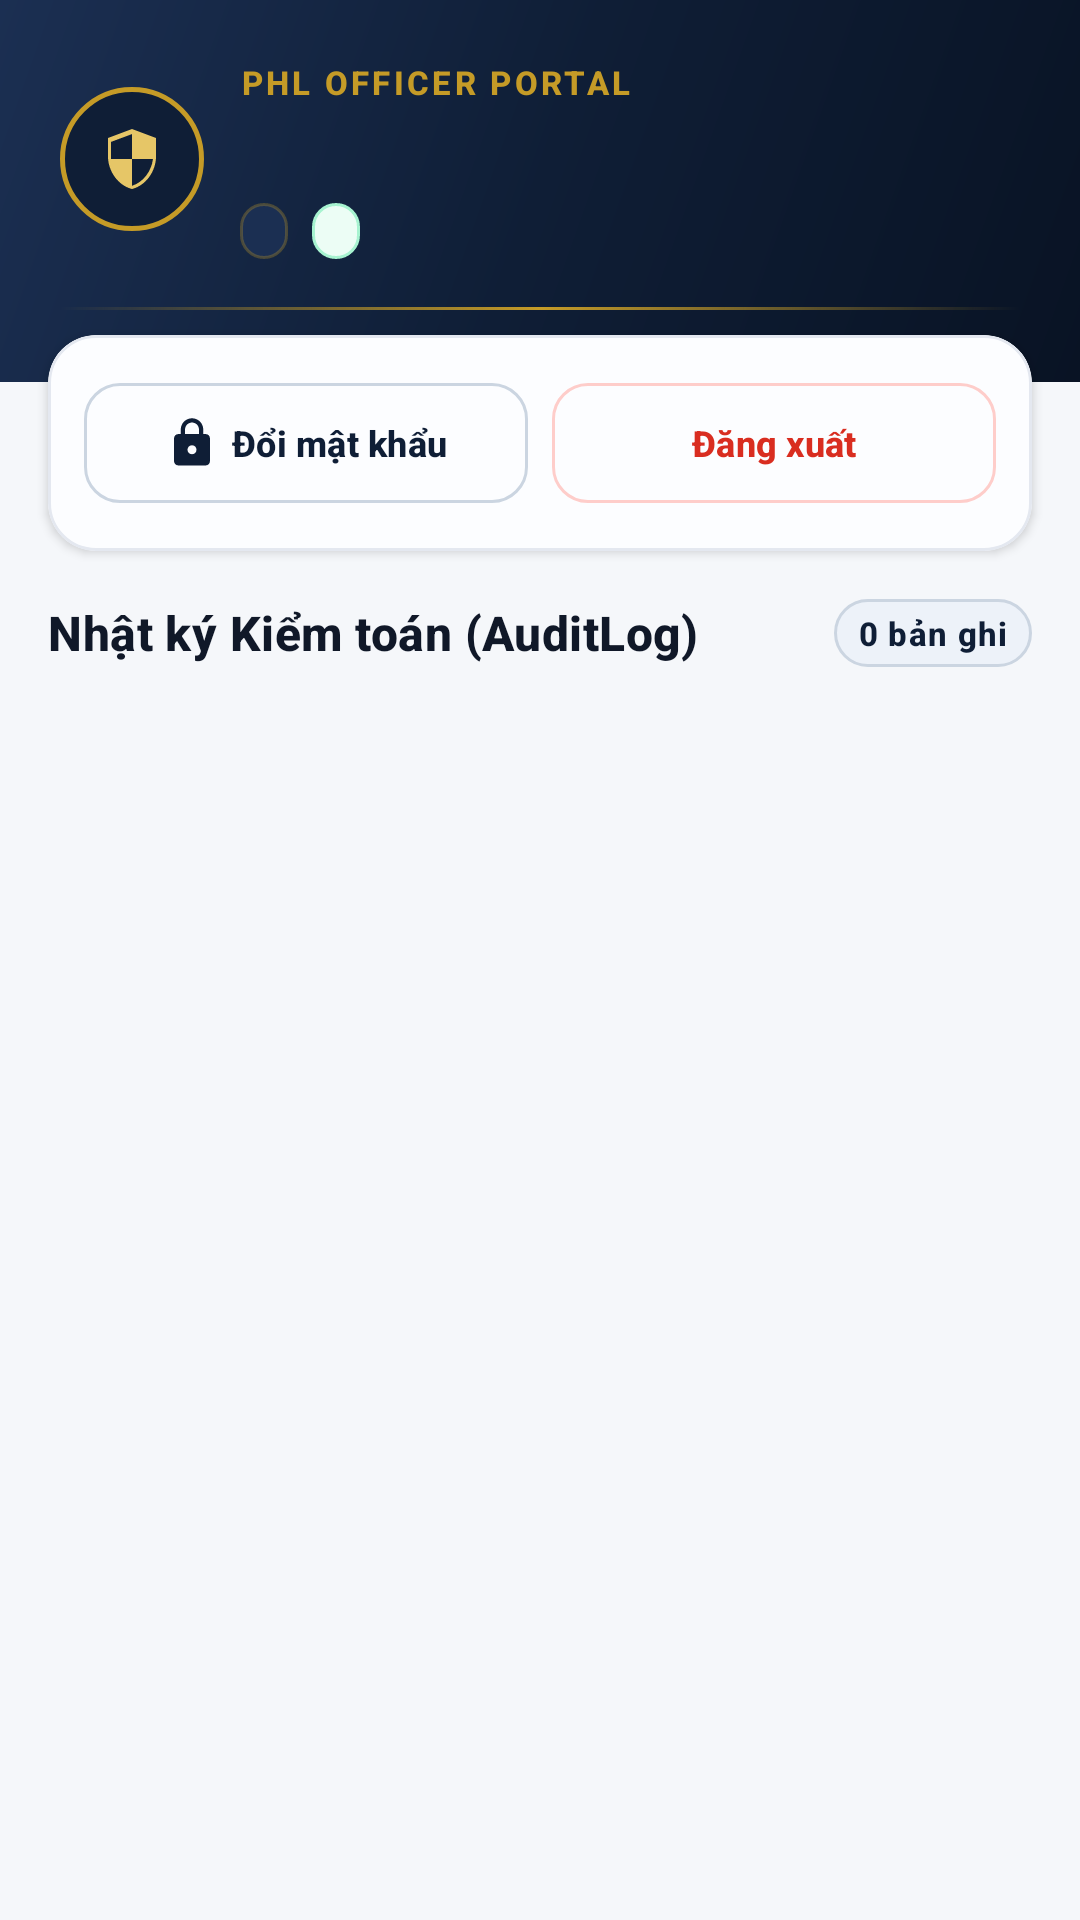

Point at icon controls on the screen. Image size 1080px×1920px, points as (x=x, y=y).
phl shield: (x=132, y=159)
